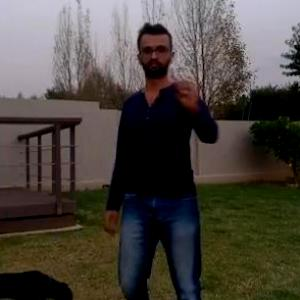takeoff-hand: (174, 64, 209, 113)
